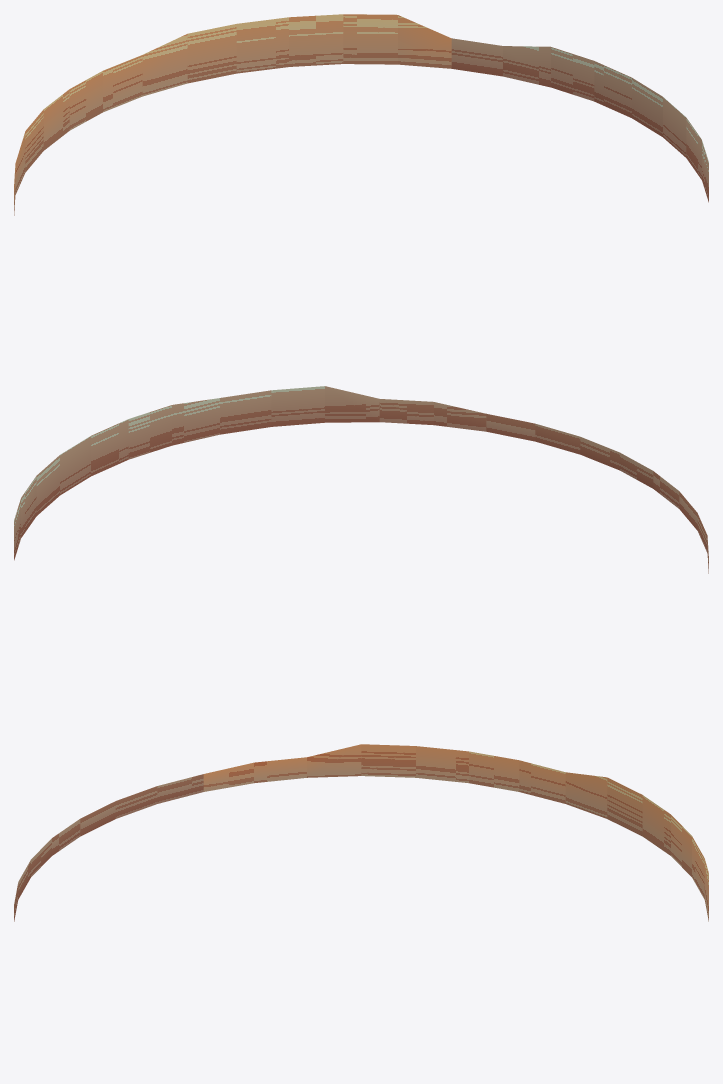
Rendered from wsky.mesas__near.glb.
The picture shows the model from 3 angles, top to bottom: view 1: azimuth 30°, elevation 25°; view 2: azimuth 150°, elevation 25°; view 3: azimuth 270°, elevation 25°; orthographic projection.
Visible parts, largest first — view 1: kit_shell_mesas; view 2: kit_shell_mesas; view 3: kit_shell_mesas.
Part boxes in pixels (x1=…): kit_shell_mesas: x1=14, y1=14, x2=708, y2=215; kit_shell_mesas: x1=14, y1=386, x2=708, y2=573; kit_shell_mesas: x1=14, y1=744, x2=708, y2=921.
Size of the model in its own units: 180 by 14.21 by 180.
Materials: 1 (1 with a texture image).
